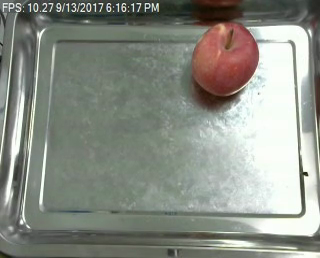Apple: (188, 20, 259, 98)
